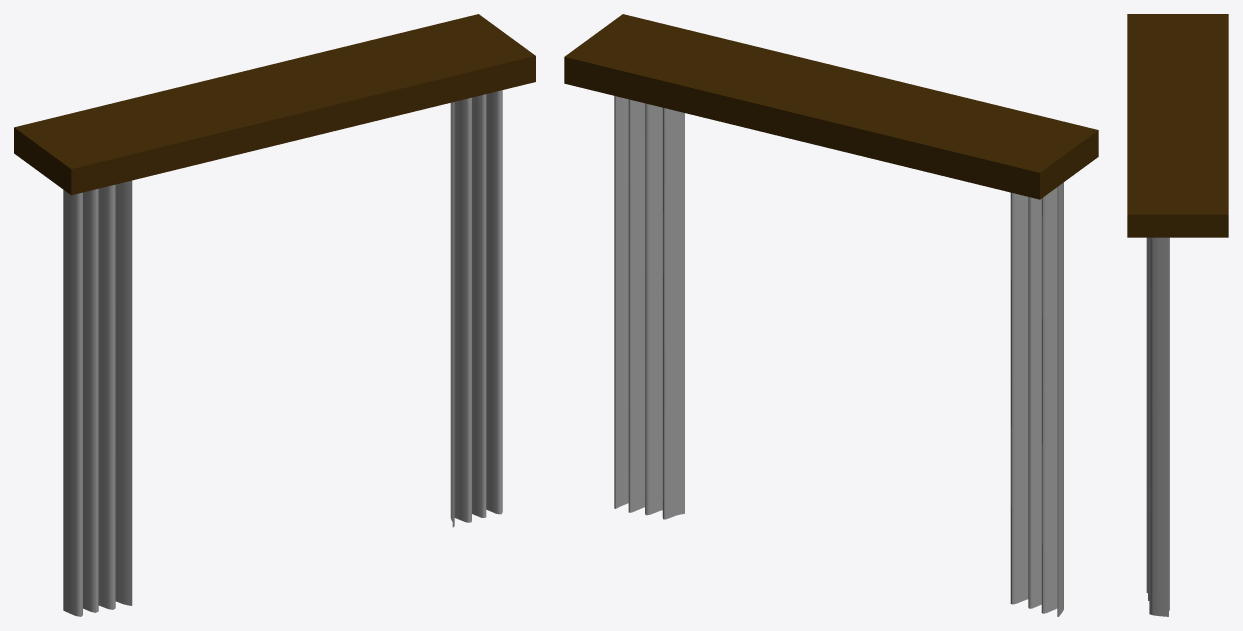
The model's file is curtains_open.fbx.
3 views of the same model, side by side, from view 1: azimuth 30°, elevation 25°; view 2: azimuth 150°, elevation 25°; view 3: azimuth 270°, elevation 25° (orthographic). The views are drawn at different scales.
Parts seen in each view (by area): view 1: polySurface284; view 2: polySurface284; view 3: polySurface284.
Part boxes in pixels (x1,y1,x2,y2): polySurface284: [14, 14, 535, 616]; polySurface284: [564, 14, 1098, 616]; polySurface284: [1127, 14, 1228, 616].
Bounding box in the file's own units: 1.96 × 1.86 × 0.4171.
